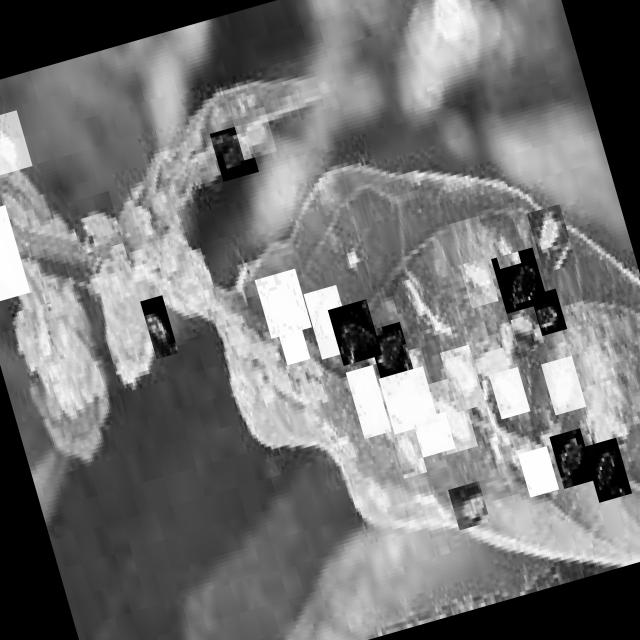aphid: (378, 366, 438, 434), (254, 268, 312, 338), (427, 376, 478, 454), (303, 284, 354, 360), (491, 247, 548, 314), (328, 298, 382, 366), (67, 190, 123, 254), (345, 364, 391, 438), (526, 204, 576, 272), (582, 437, 632, 502), (466, 330, 518, 392), (440, 344, 486, 412), (367, 321, 415, 385), (18, 302, 66, 366), (0, 204, 30, 301), (210, 123, 258, 181), (548, 428, 594, 488), (541, 355, 586, 415), (140, 294, 178, 358), (232, 106, 276, 160), (389, 420, 427, 478), (522, 288, 566, 338), (488, 367, 530, 419), (0, 109, 32, 175), (448, 480, 490, 530), (518, 445, 558, 497), (412, 411, 456, 457), (459, 257, 498, 308), (507, 306, 545, 354), (392, 347, 431, 392), (487, 218, 521, 268), (276, 322, 310, 364)
